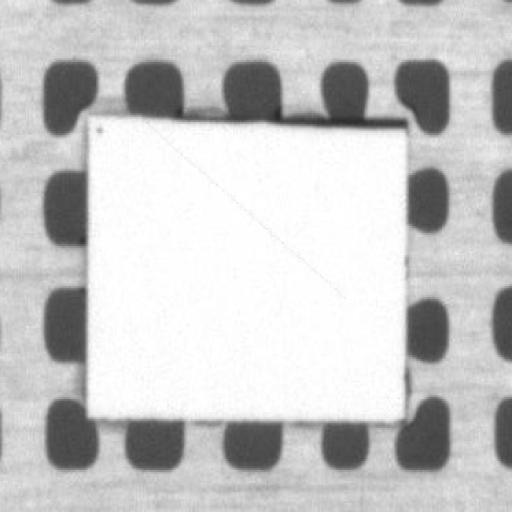DIE_CRACK: (144, 120, 343, 295)
DIE_INK: (90, 120, 106, 137)
